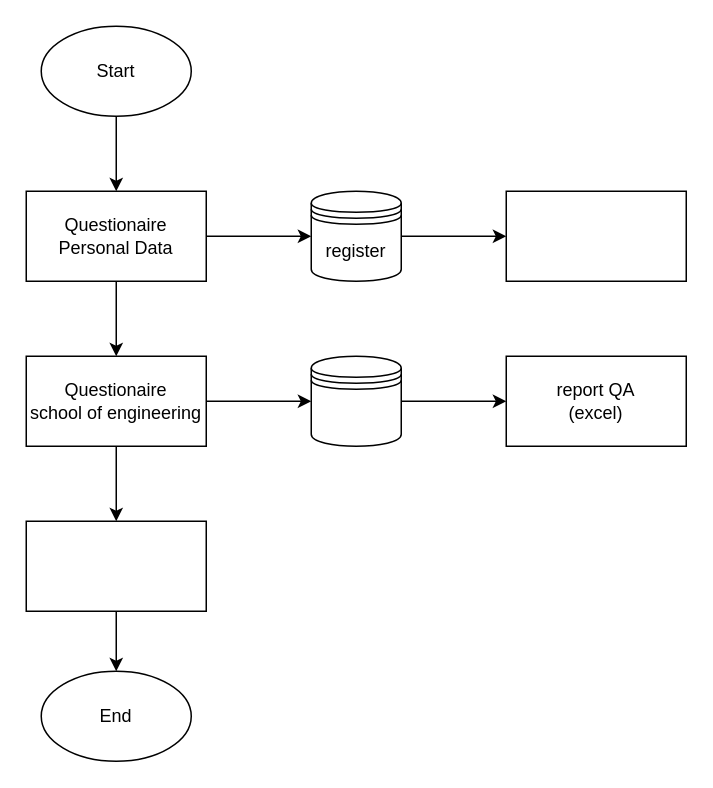
Image size: 713x788. Some labels were removed from this diagram. The shapes that lost their labels are listed below. From the top down, each one's centre as x and y in pixels, then its label:
the point at 595,235: report register (excel)
the point at 355,400: QA
the point at 115,565: Character
